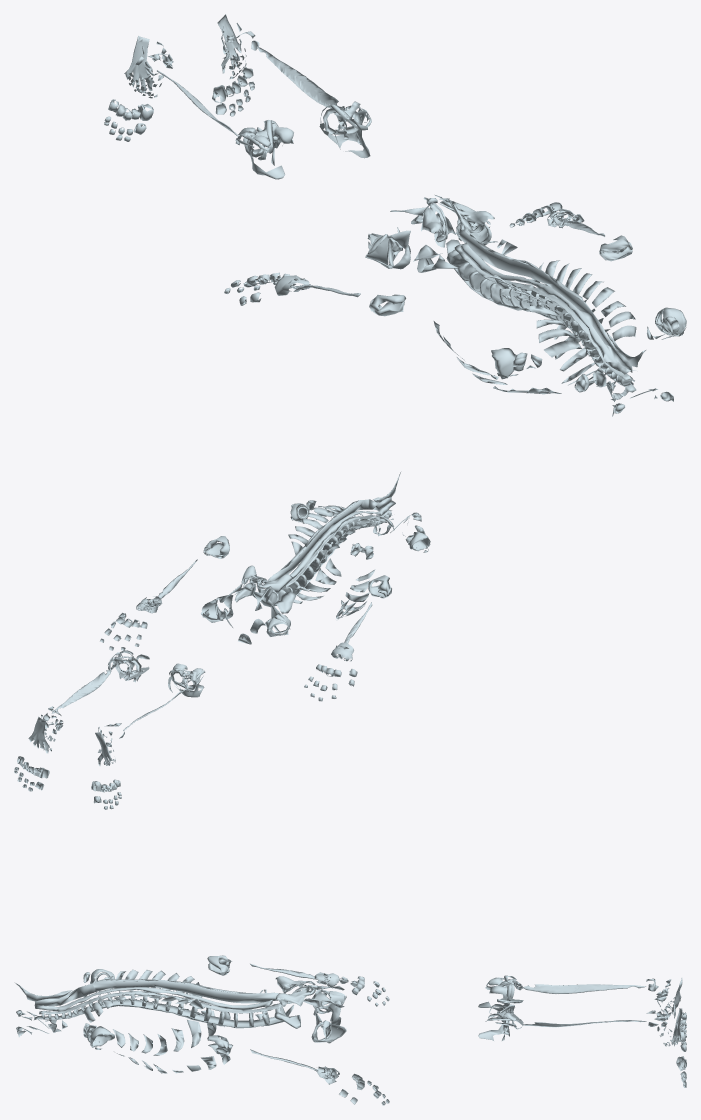
Rendered from overview__joints.a2b40e07da.glb.
3 views of the same model, one above another, from view 1: azimuth 30°, elevation 25°; view 2: azimuth 150°, elevation 25°; view 3: azimuth 270°, elevation 25° (orthographic). The views are drawn at different scales.
Visible parts, largest first — view 1: Interspinous ligaments, Internal intercostal membrane.l, Ligamenta flava, Internal intercostal membrane.r, Interosseous membrane of leg.l, Posterior longitudinal ligament, Articular capsule of knee joint.r, Long plantar ligament.r, Posterior sacro-iliac ligament.l, Posterior sacro-iliac ligament.r, Articular capsule of knee joint.l, External intercostal membrane.r; view 2: Interspinous ligaments, Internal intercostal membrane.l, External intercostal membrane.l, Ligamenta flava, External intercostal membrane.r; view 3: Interspinous ligaments, Anterior longitudinal ligament, External intercostal membrane.r, Ligamenta flava, Posterior longitudinal ligament, Interosseous membrane of leg.r, Internal intercostal membrane.l, Internal intercostal membrane.r, External intercostal membrane.l, Posterior sacro-iliac ligament.l, Articular capsule of knee joint.r.
Part boxes in pixels (x1,y1,x2,y2): Interspinous ligaments: (460,229,632,372); Internal intercostal membrane.l: (532,260,636,340); Ligamenta flava: (460,242,635,374); Internal intercostal membrane.r: (487,274,581,357); Interosseous membrane of leg.l: (256,46,344,109); Posterior longitudinal ligament: (454,244,632,380); Articular capsule of knee joint.r: (243,120,293,179); Long plantar ligament.r: (124,36,154,91); Posterior sacro-iliac ligament.l: (445,199,494,233); Posterior sacro-iliac ligament.r: (421,202,448,242); Articular capsule of knee joint.l: (320,106,370,158); External intercostal membrane.r: (433,321,561,394); Interspinous ligaments: (268,497,391,580); Internal intercostal membrane.l: (288,505,345,555); External intercostal membrane.l: (249,558,341,603); Ligamenta flava: (290,500,395,580); External intercostal membrane.r: (335,569,375,620); Interspinous ligaments: (34,980,278,1006); Anterior longitudinal ligament: (34,999,294,1028); External intercostal membrane.r: (113,1003,230,1055); Ligamenta flava: (35,987,272,1010); Posterior longitudinal ligament: (39,990,281,1014); Interosseous membrane of leg.r: (522,984,646,993); Internal intercostal membrane.l: (83,994,202,1022); Internal intercostal membrane.r: (83,969,202,997); External intercostal membrane.l: (117,1053,230,1073); Posterior sacro-iliac ligament.l: (275,985,315,1006); Articular capsule of knee joint.r: (478,977,514,1011).
Bounding box in the file's own units: 1292 × 223 × 1528.
